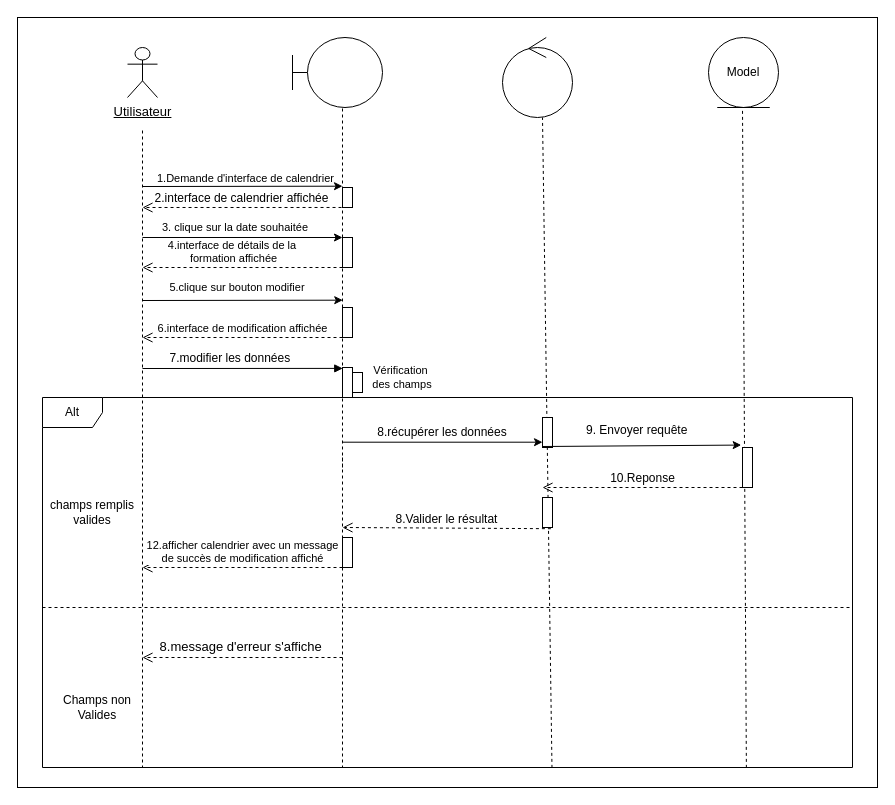
This 895x805 diagram has some shape labels left out. Here are the shapes that lost their labels. From the top down, the centre of each, then its label:
At [337,72]: "View".
At [537,77]: "Controller".
